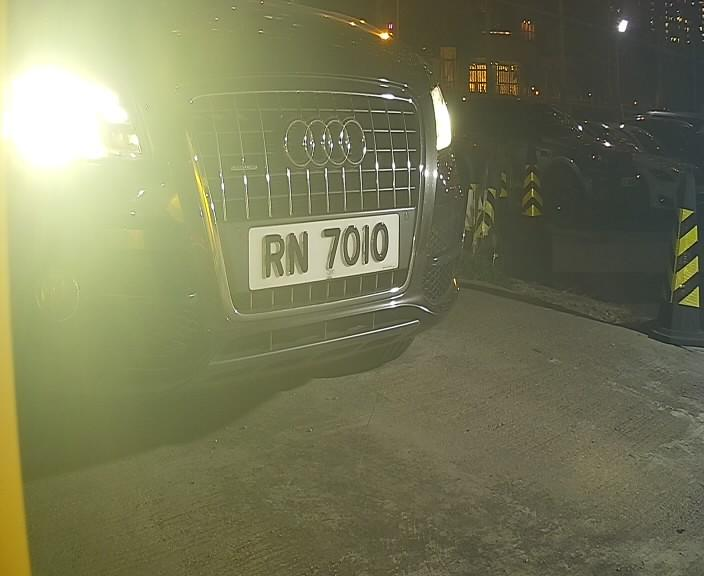Car: (10, 1, 560, 474)
License Plate: (246, 196, 409, 304)
